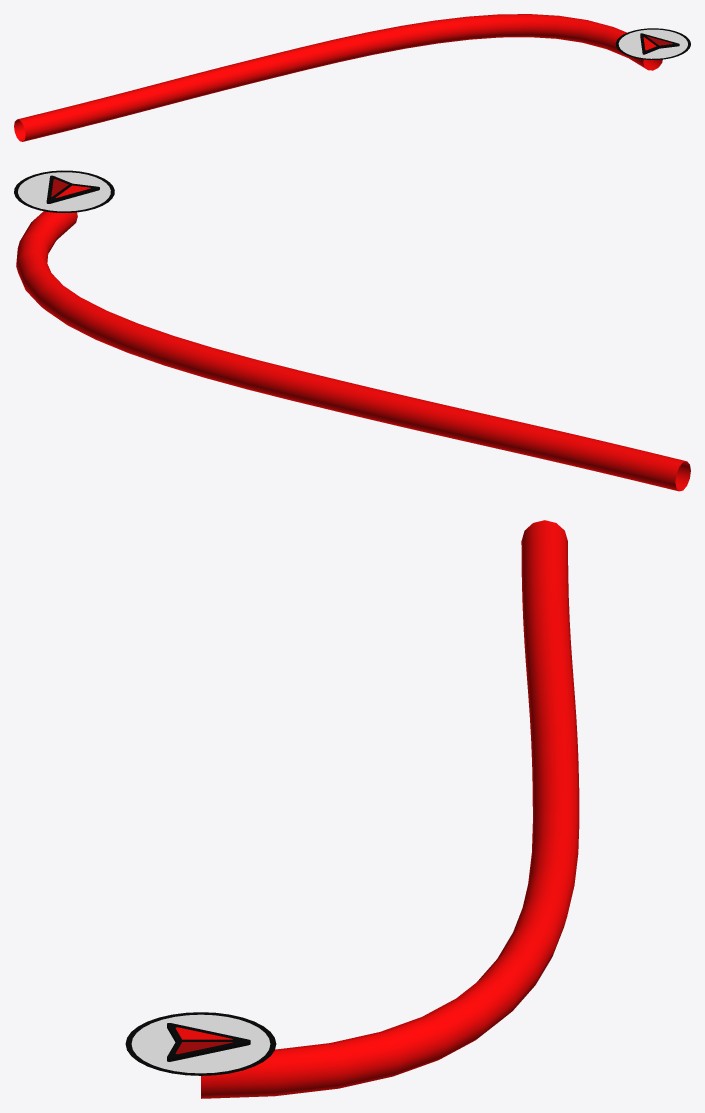
The model's file is route_b2164a2d-2a77-4ab7-bf32-b9ded1880eaf_de_single.glb.
The picture shows the model from 3 angles, top to bottom: view 1: azimuth 30°, elevation 25°; view 2: azimuth 150°, elevation 25°; view 3: azimuth 270°, elevation 25°; orthographic projection. The views are drawn at different scales.
Visible parts, largest first — view 1: Technik, Navipfeil.062; view 2: Technik, Navipfeil.062; view 3: Technik, Navipfeil.062.
Boxes of the visible parts, box(x1,y1,x2,y2) form: Technik: box(14, 14, 662, 141); Navipfeil.062: box(615, 28, 690, 59); Technik: box(16, 211, 690, 491); Navipfeil.062: box(14, 170, 114, 212); Technik: box(201, 520, 579, 1098); Navipfeil.062: box(125, 1012, 276, 1075).
Bounding box in the file's own units: 2.3 × 0.1062 × 0.7806.
